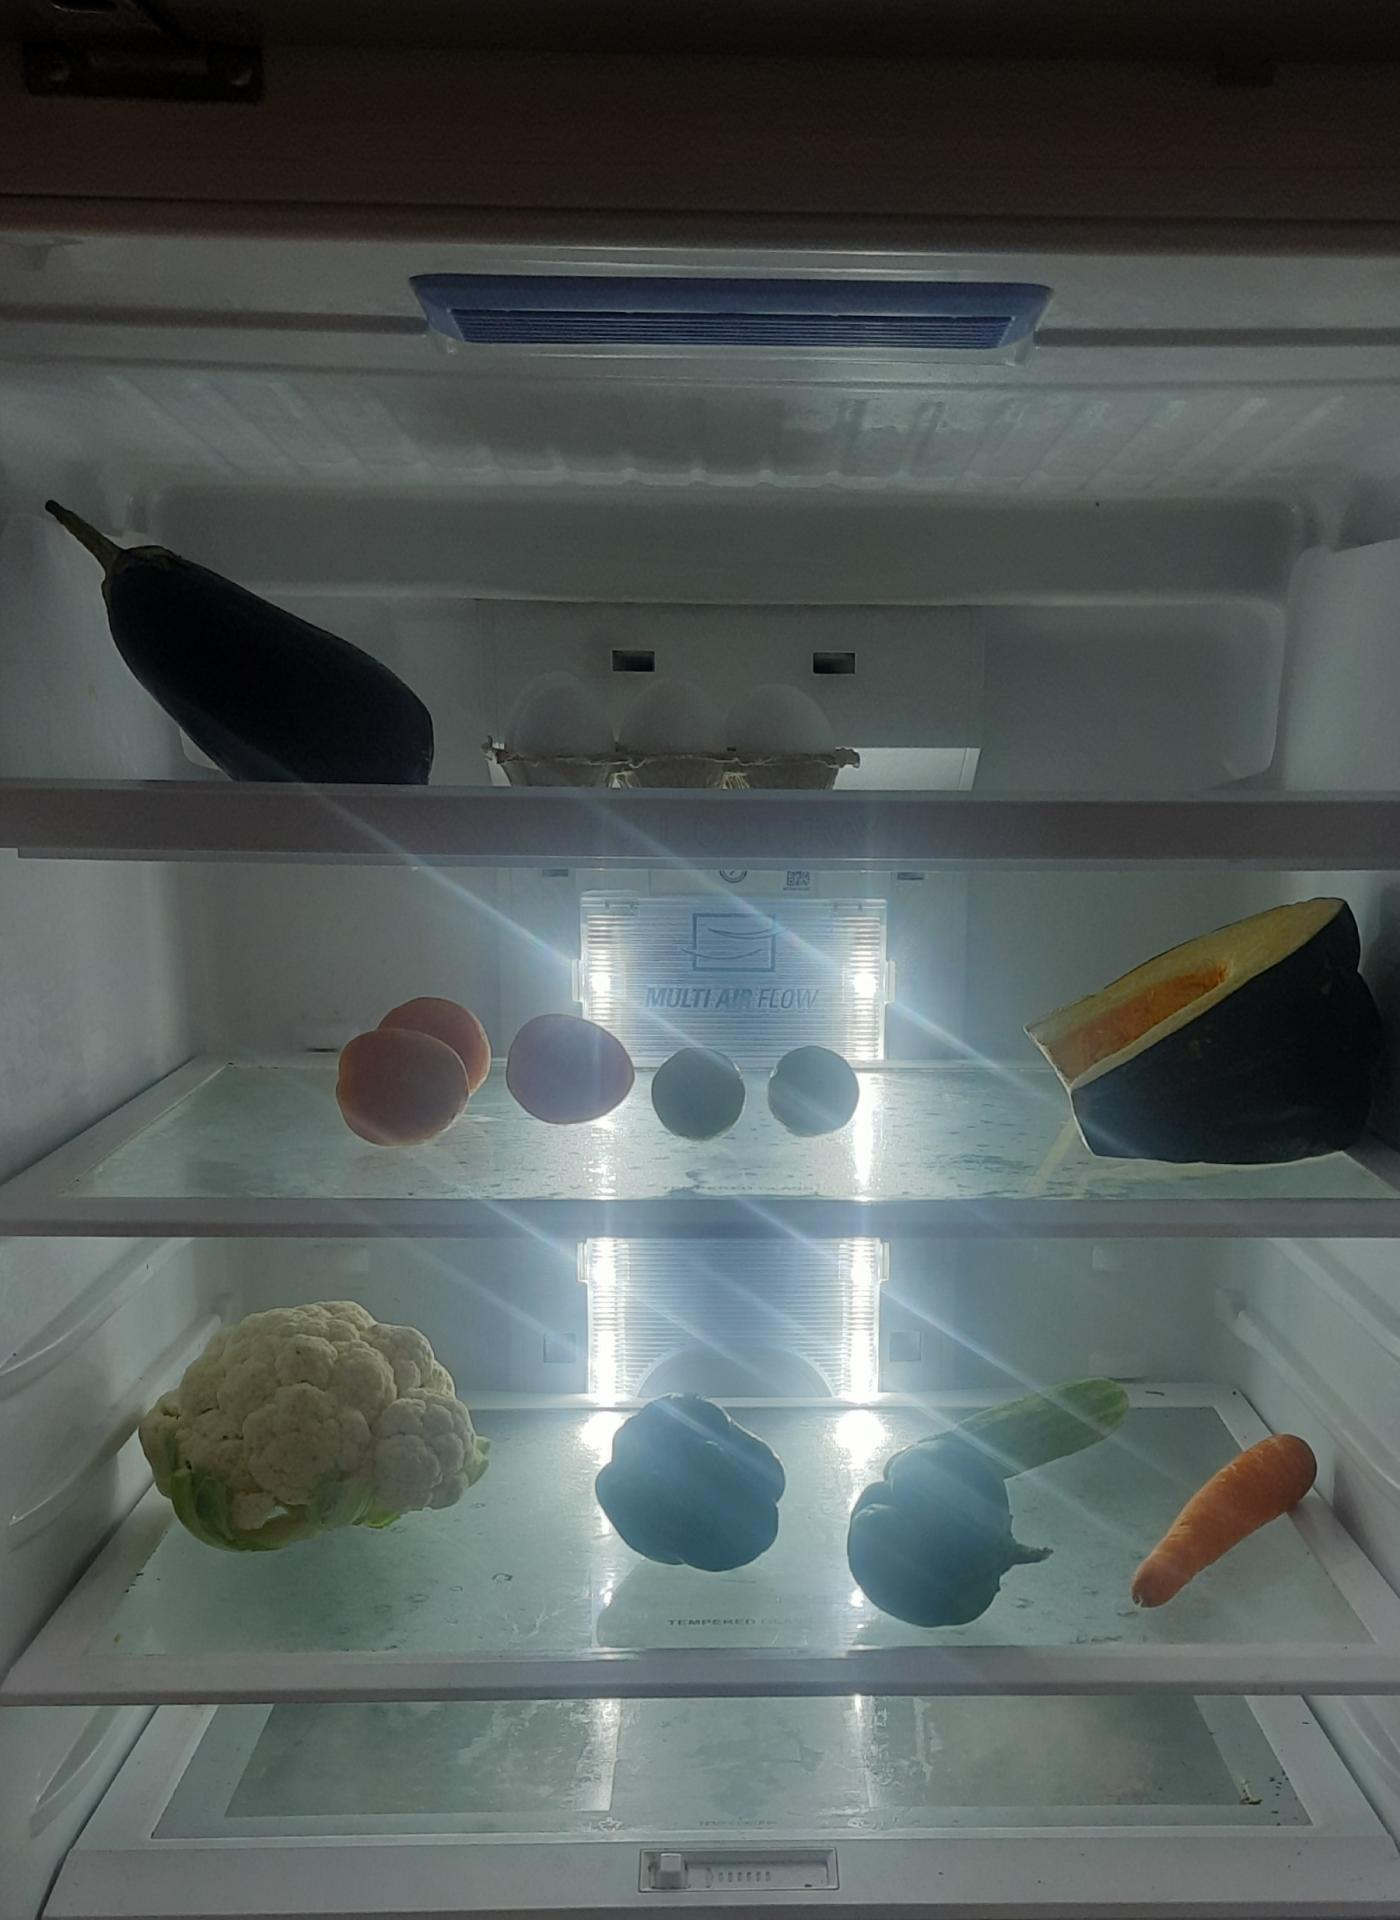brinjal: (34, 474, 452, 798)
capsicum: (842, 1427, 1053, 1634), (593, 1397, 792, 1574)
carrots: (1133, 1431, 1322, 1611)
cauliflower: (143, 1304, 492, 1556)
cucumber: (954, 1371, 1127, 1467), (762, 1040, 862, 1136)
egg: (485, 653, 860, 784)
lemon: (646, 1043, 750, 1145)
pumpkin: (1033, 894, 1400, 1170)
tomato: (332, 993, 491, 1146), (505, 1012, 644, 1127)
